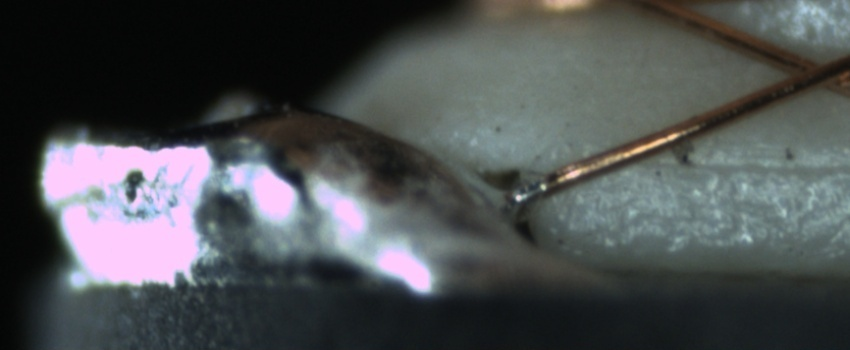CL: (766, 44, 848, 98)
DL: (632, 134, 850, 195)
TS: (507, 177, 546, 205)
